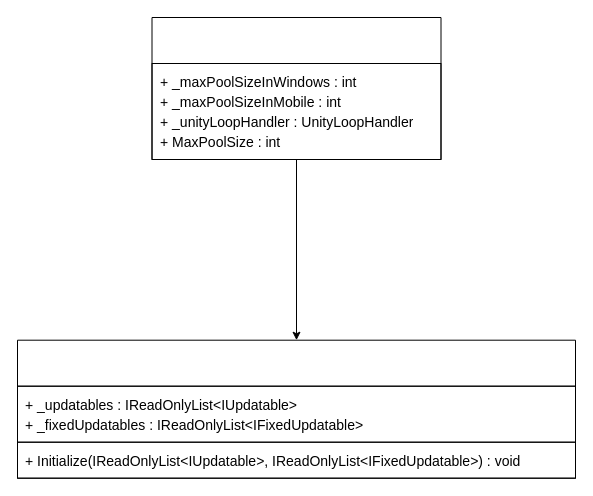
The diagram is 593 pixels wide and 496 high, and some of its shapes have lost their labels. The box of each missing label's shape, as (x1, y1, x2, y2) in pixels:
<<MonoBehaviour>> UnityLoopHandler: (16, 339, 576, 478)
RootLifetimeScope: (151, 16, 441, 160)
